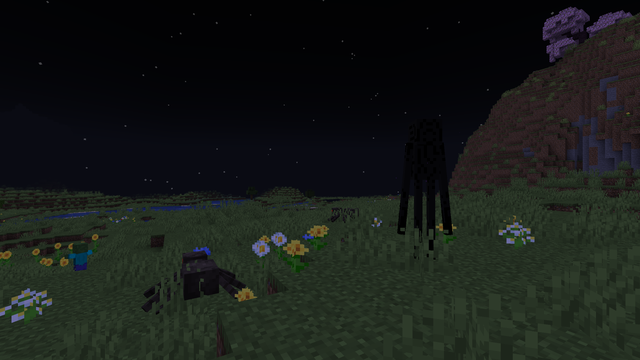araignees: (159, 244, 234, 316), (328, 205, 358, 223)
endermens: (402, 112, 446, 265)
zombies: (71, 242, 88, 270)
